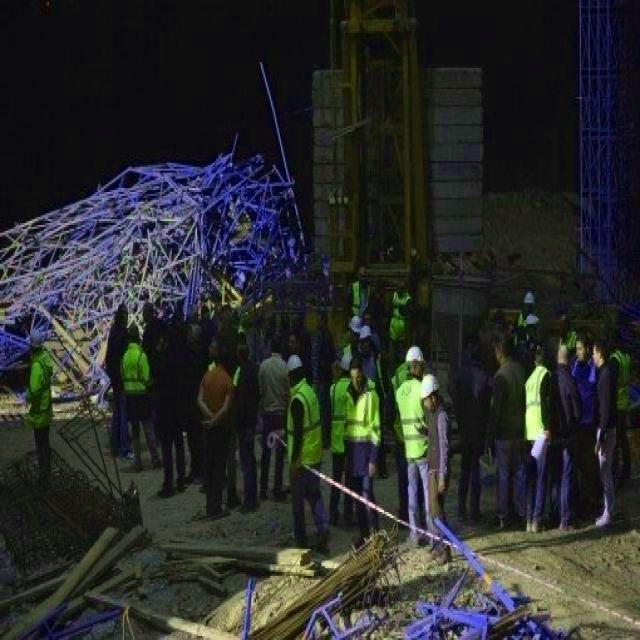Con_Chaleco: (285, 387, 323, 471), (344, 387, 376, 460), (28, 358, 55, 429), (121, 344, 147, 400)
